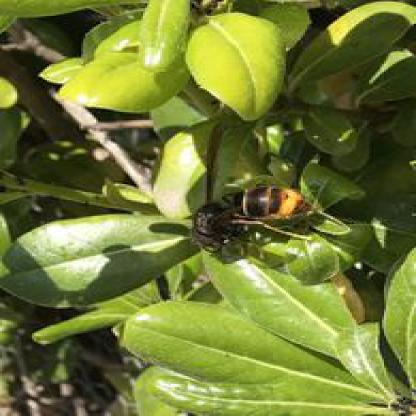Asian Hornet: (181, 179, 318, 261)
